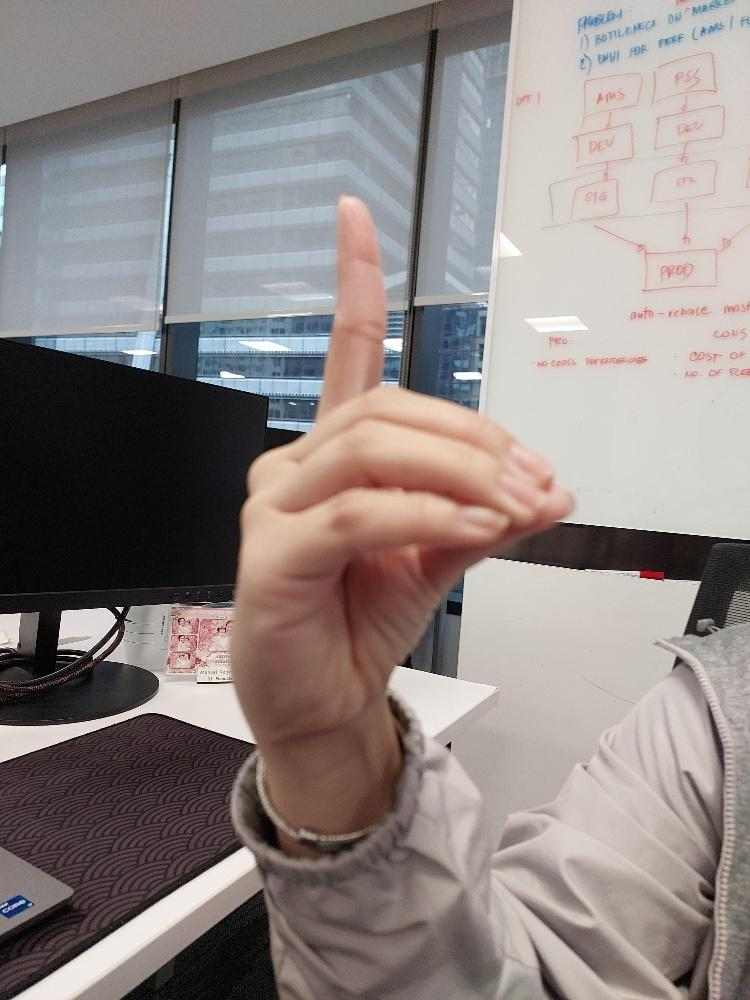d: (227, 196, 575, 741)
